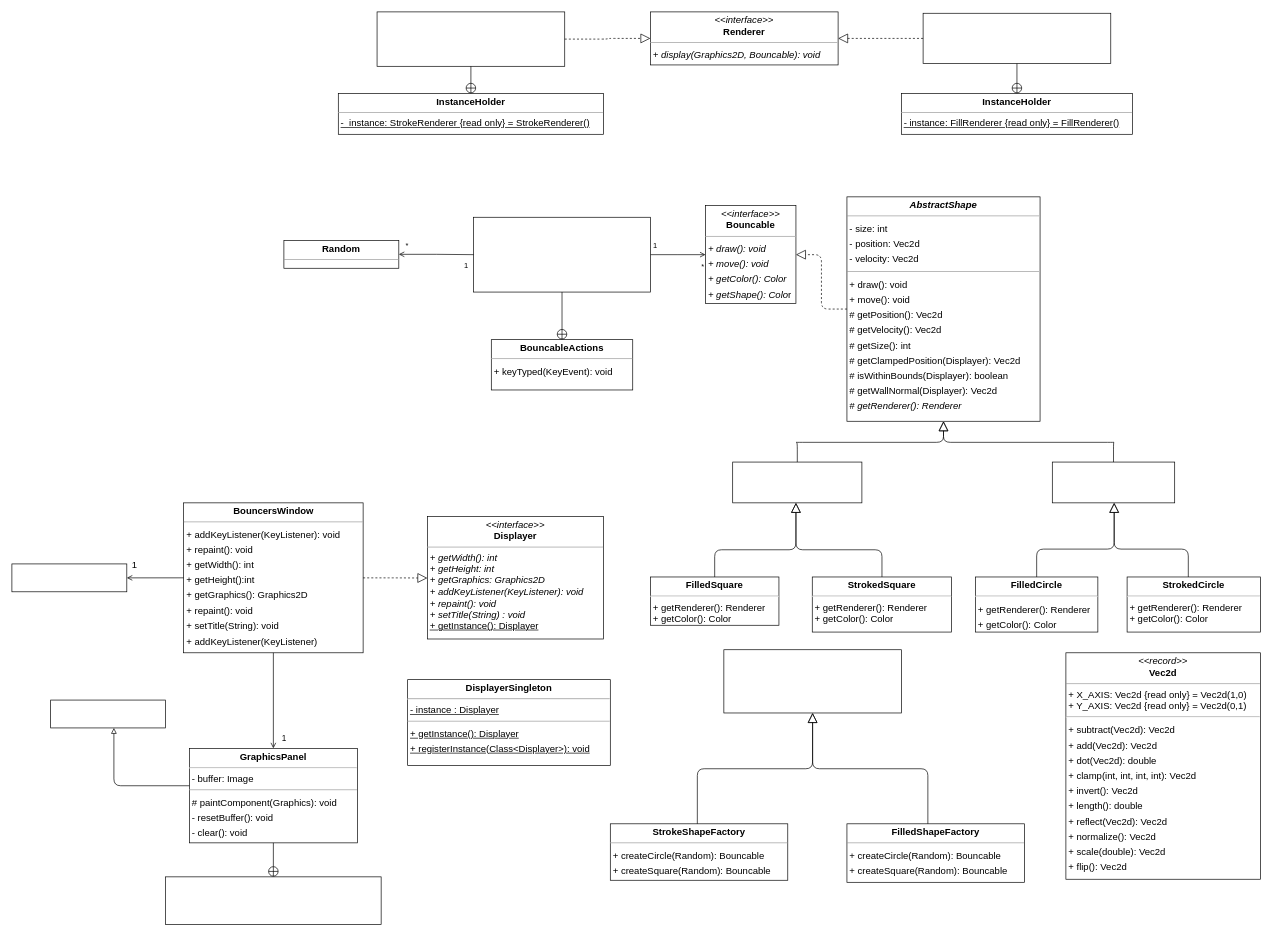
This 1272x936 diagram has some shape labels left out. Each missing label, with the box of its shape:
Bouncers + run(): void + main(String[]): void - createShapes(ShapeFactory): void: (473, 217, 650, 292)
Circle + getShape(): Shape: (1052, 461, 1175, 503)
FillRenderer + display(Graphics2D, Bouncable) + getInstance(): FillRenderer: (922, 13, 1111, 64)
JFrame: (11, 563, 127, 592)
JPanel: (50, 699, 166, 728)
ResizeListener + componentResized(ComponentEvent): void: (165, 876, 381, 924)
ShapeFactory + createSquare(Random): Bouncable + createCircle(Random): Bouncable: (723, 649, 901, 713)
Square + getShape(): Shape: (732, 461, 862, 503)
StrokeRenderer + display(Graphics2D, Bouncable) + getInstance(): StrokeRenderer: (376, 11, 565, 66)
